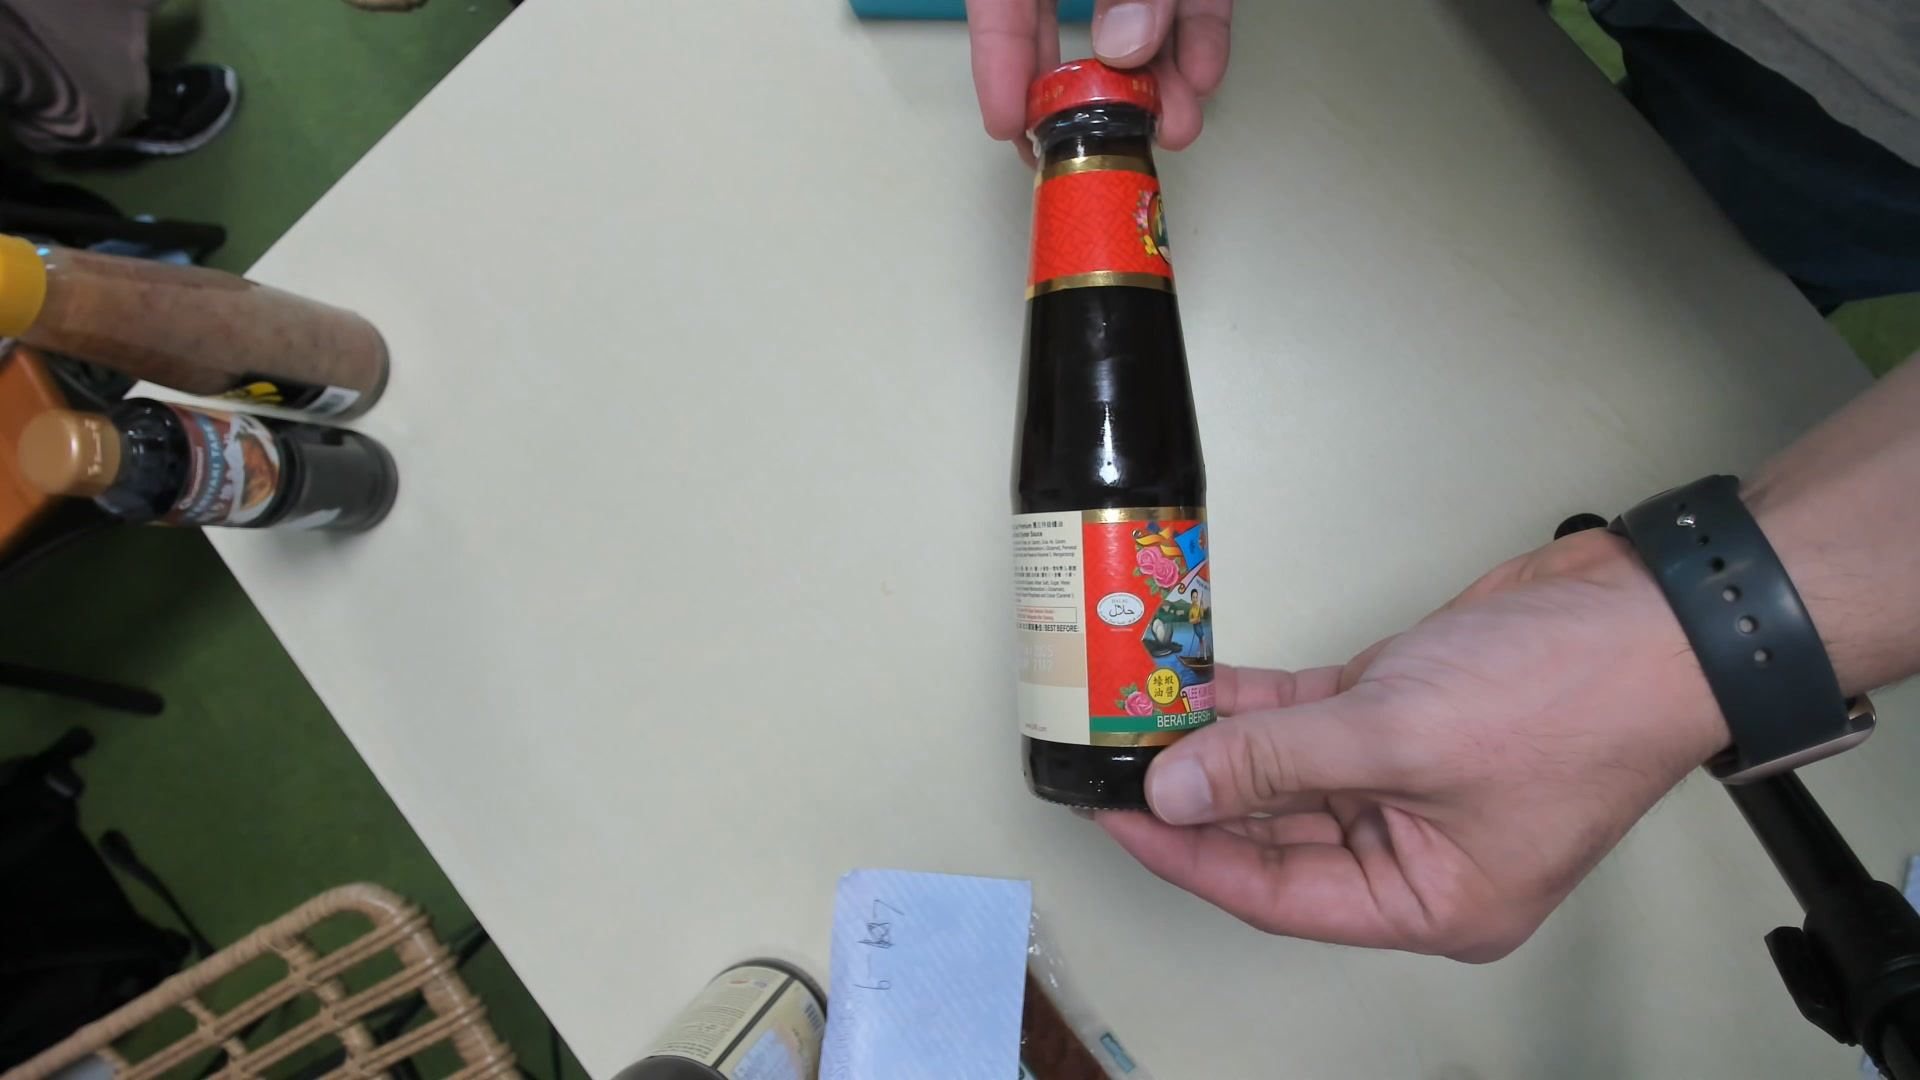OtherSauceDressingSoupbasePaste_200-299g_Halal_NonHealthy: (1019, 61, 1221, 807)
